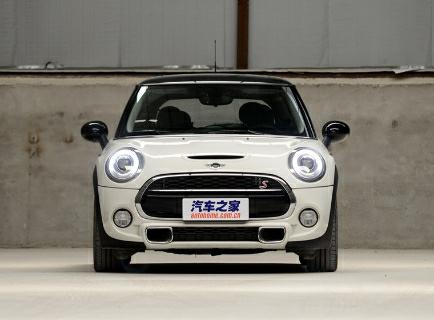MINI: (81, 74, 346, 271)
